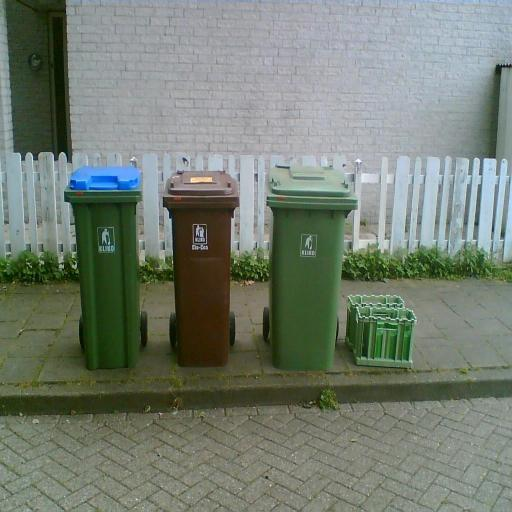trash-can: (62, 152, 160, 388), (263, 150, 361, 380), (166, 146, 246, 370)
